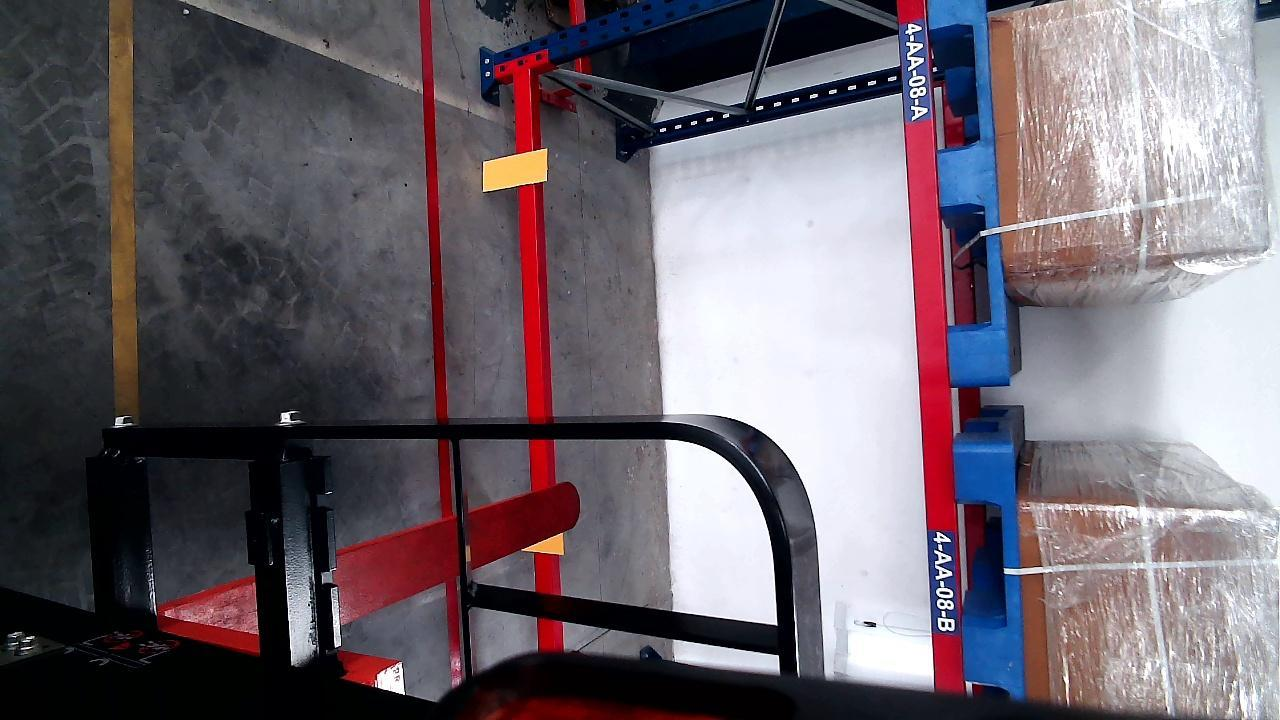red_line: (420, 1, 459, 688)
yellow_line: (109, 0, 139, 420)
